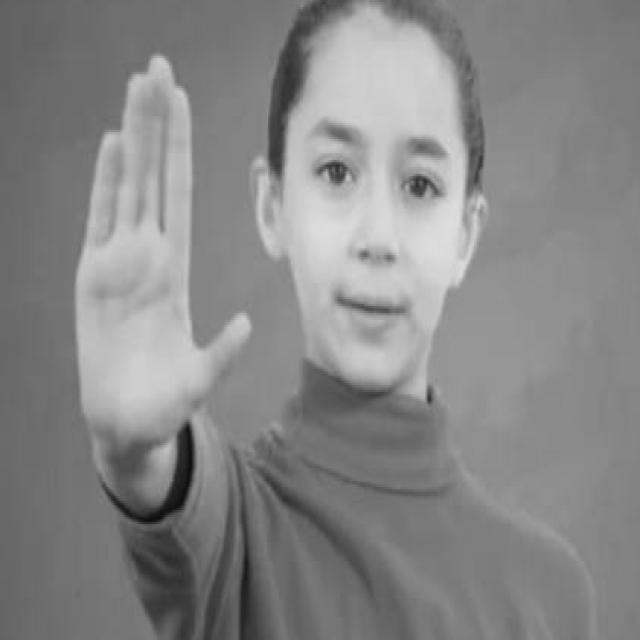stop: (70, 49, 257, 468)
